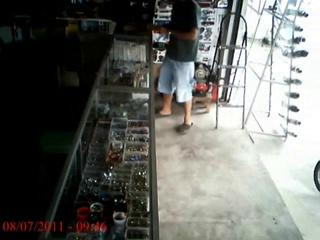Normal: (154, 0, 201, 133)
